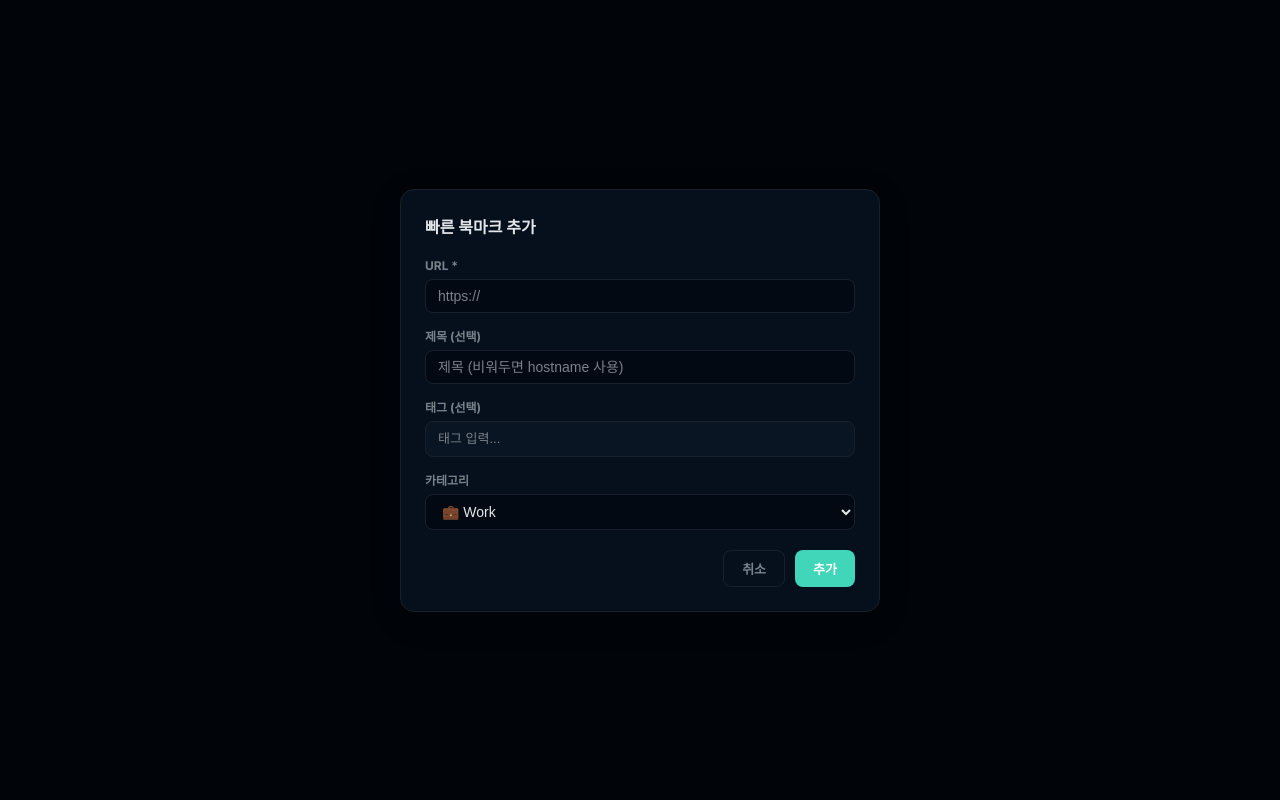
it: QuickCapture › 유효하지 않은 URL 입력 시 오류 메시지를 표시한다
Type "not-a-url" into the field with placeholder "https://" at point(640, 296), box [425,278,855,312]
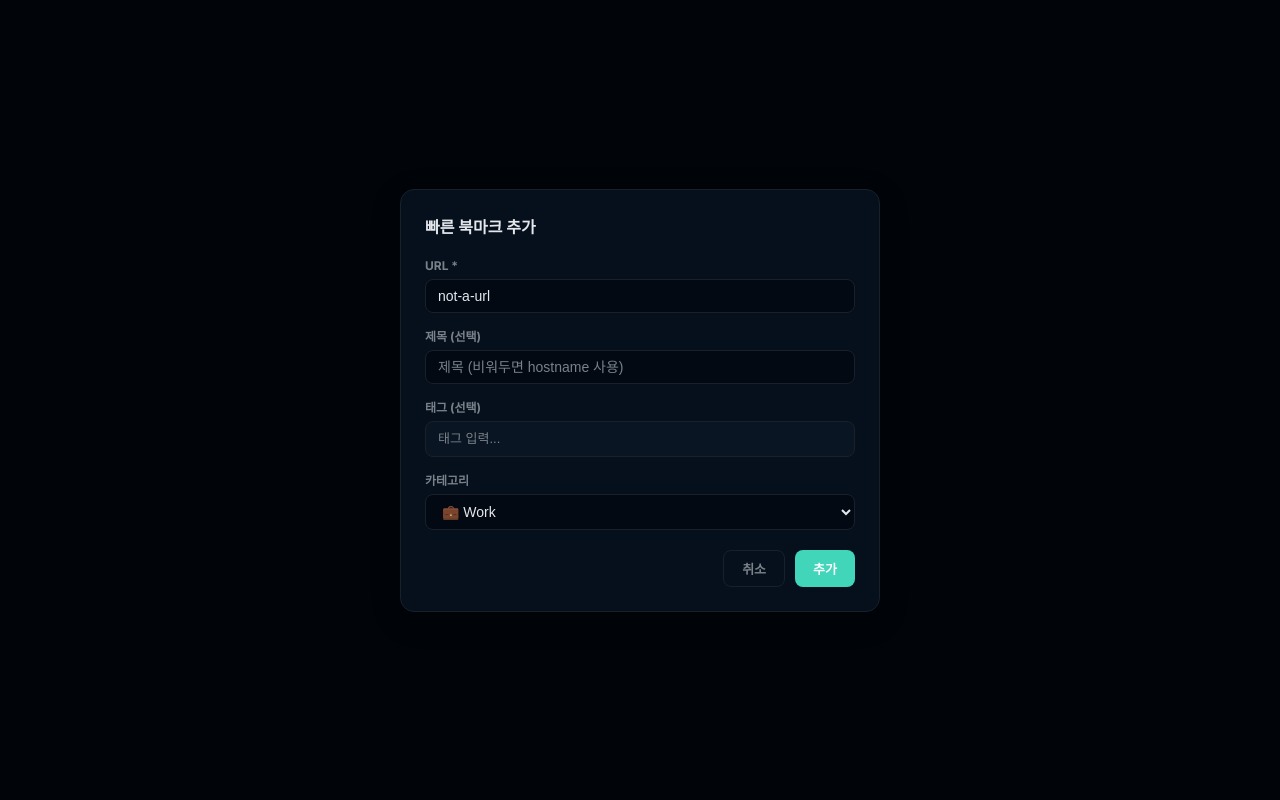
Click the button "추가" at point(825, 568), box [795,550,855,586]
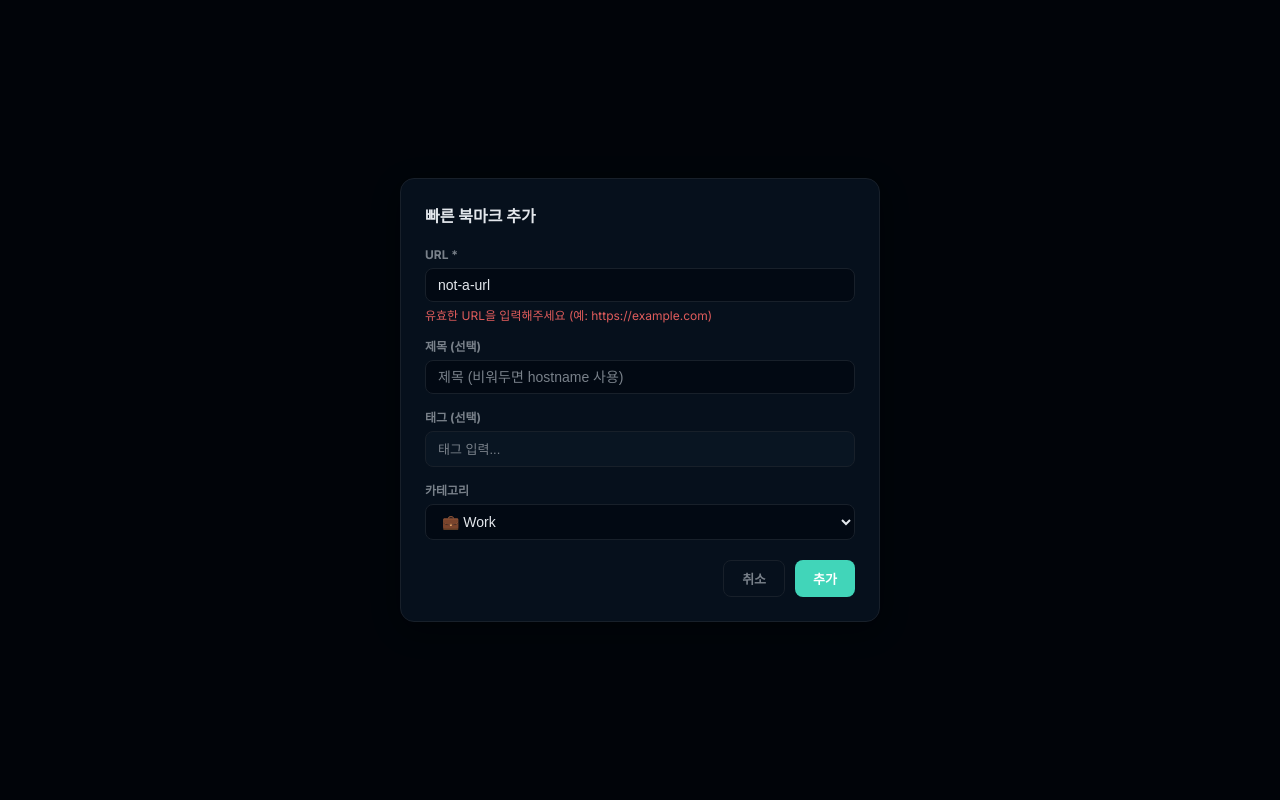
Check: the text "유효한 URL을 입력해주세요 (예: https://example.com)" is shown, box [425,308,712,323]
